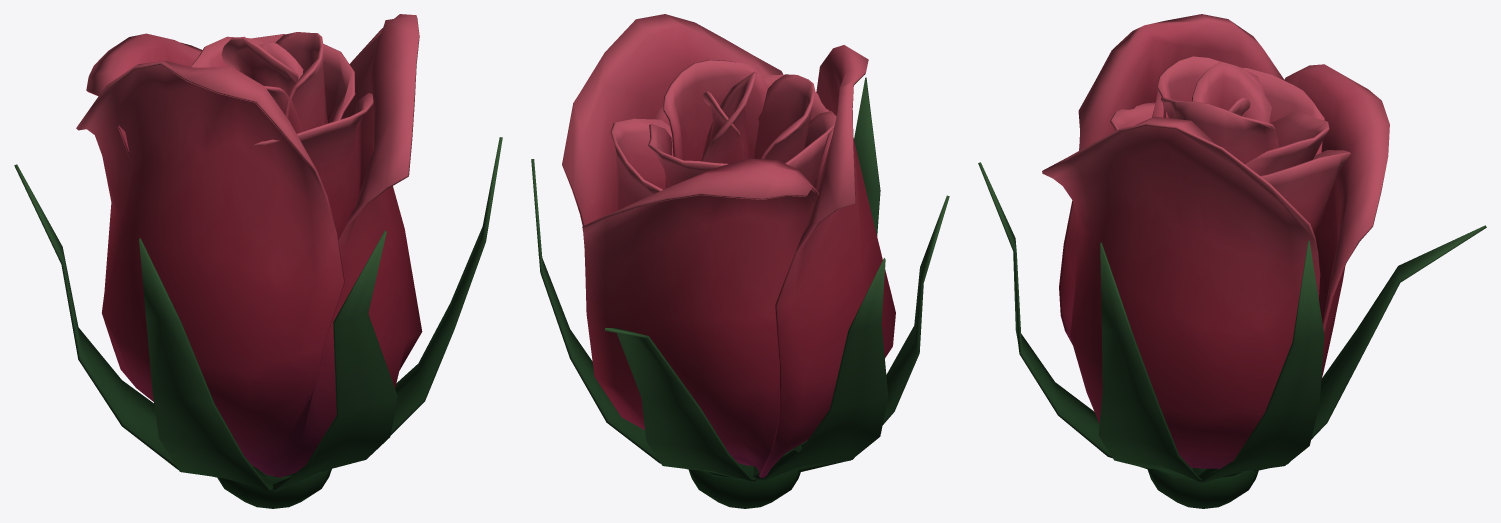
File: ClosedRoseHead.fbx
3 renders of one model, left to right at view 1: azimuth 30°, elevation 25°; view 2: azimuth 150°, elevation 25°; view 3: azimuth 270°, elevation 25°, orthographic. The views are drawn at different scales.
Visible parts, largest first — view 1: Bud; view 2: Bud; view 3: Bud.
Part boxes in pixels (x1,y1,x2,y2): Bud: (14,14,502,508); Bud: (531,14,949,508); Bud: (978,14,1486,508).
Bounding box in the file's own units: 13.8 × 16.59 × 17.23.
